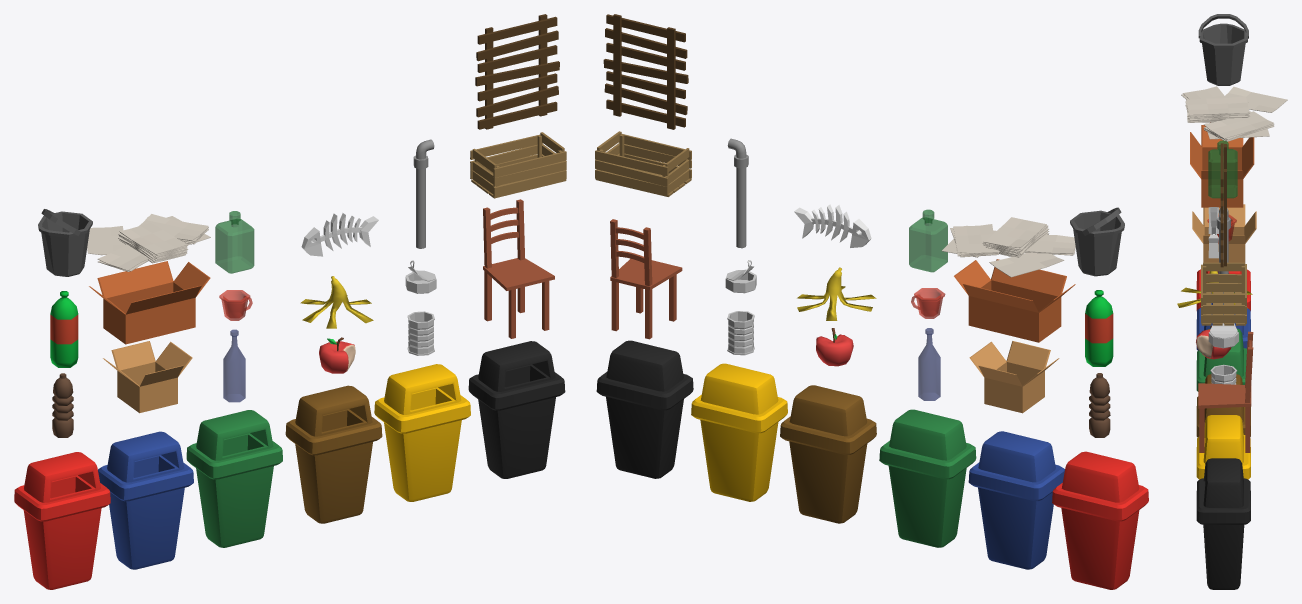
Rendered from Objetos.fbx.
The picture shows the model from 3 angles, left to right: view 1: azimuth 30°, elevation 25°; view 2: azimuth 150°, elevation 25°; view 3: azimuth 270°, elevation 25°; orthographic projection. The views are drawn at different scales.
Visible parts, largest first — view 1: Lixeira Metal (Amarelo), Lixeira Organico (Marrom), Lixeira Vidro, Lixeira Plastico (Vermelho), Lixeira Madeira (Preto), Lixeira Papel (Azul), Caixa de Papelao Grande, Pallet, Caixote, Pilha de Papeis, Cadeira, Caixa de Papelao Pequena (+11 smaller); view 2: Lixeira Metal (Amarelo), Lixeira Plastico (Vermelho), Lixeira Vidro, Lixeira Organico (Marrom), Lixeira Madeira (Preto), Lixeira Papel (Azul), Pallet, Caixa de Papelao Grande, Pilha de Papeis, Caixote, Caixa de Papelao Pequena, Cadeira (+11 smaller); view 3: Lixeira Madeira (Preto), Pilha de Papeis, Caixa de Papelao Grande, Caixote, Balde, Lixeira Metal (Amarelo), Cadeira, Caixa de Papelao Pequena, Garrafa de Whisky, Lixeira Vidro, Pallet, Lixeira Organico (Marrom) (+8 smaller).
Part boxes in pixels (<box>): Lixeira Metal (Amarelo): <box>374,364,470,501</box>; Lixeira Organico (Marrom): <box>285,385,382,523</box>; Lixeira Vidro: <box>186,410,282,547</box>; Lixeira Plastico (Vermelho): <box>14,452,110,589</box>; Lixeira Madeira (Preto): <box>468,341,565,478</box>; Lixeira Papel (Azul): <box>98,431,193,569</box>; Caixa de Papelao Grande: <box>89,261,210,344</box>; Pallet: <box>475,14,559,129</box>; Caixote: <box>470,132,566,198</box>; Pilha de Papeis: <box>87,214,210,271</box>; Cadeira: <box>483,199,554,338</box>; Caixa de Papelao Pequena: <box>103,341,192,413</box>; Lixeira Metal (Amarelo): <box>691,363,787,501</box>; Lixeira Plastico (Vermelho): <box>1052,451,1148,589</box>; Lixeira Vidro: <box>879,409,976,547</box>; Lixeira Organico (Marrom): <box>780,385,876,523</box>; Lixeira Madeira (Preto): <box>596,340,693,478</box>; Lixeira Papel (Azul): <box>968,431,1064,569</box>; Pallet: <box>603,14,688,129</box>; Caixa de Papelao Grande: <box>954,259,1075,342</box>; Pilha de Papeis: <box>942,217,1075,277</box>; Caixote: <box>595,131,691,196</box>; Caixa de Papelao Pequena: <box>969,341,1059,413</box>; Cadeira: <box>610,219,682,339</box>; Lixeira Madeira (Preto): <box>1196,458,1250,589</box>; Pilha de Papeis: <box>1181,86,1287,141</box>; Caixa de Papelao Grande: <box>1190,125,1254,207</box>; Caixote: <box>1201,262,1246,325</box>; Balde: <box>1198,14,1248,85</box>; Lixeira Metal (Amarelo): <box>1196,415,1250,479</box>; Cadeira: <box>1198,331,1253,452</box>; Caixa de Papelao Pequena: <box>1192,204,1256,265</box>; Garrafa de Whisky: <box>1208,140,1237,198</box>; Lixeira Vidro: <box>1196,328,1246,391</box>; Pallet: <box>1220,143,1226,267</box>; Lixeira Organico (Marrom): <box>1196,374,1250,437</box>.
Bounding box in the file's own units: 5270 × 4237 × 1005.
